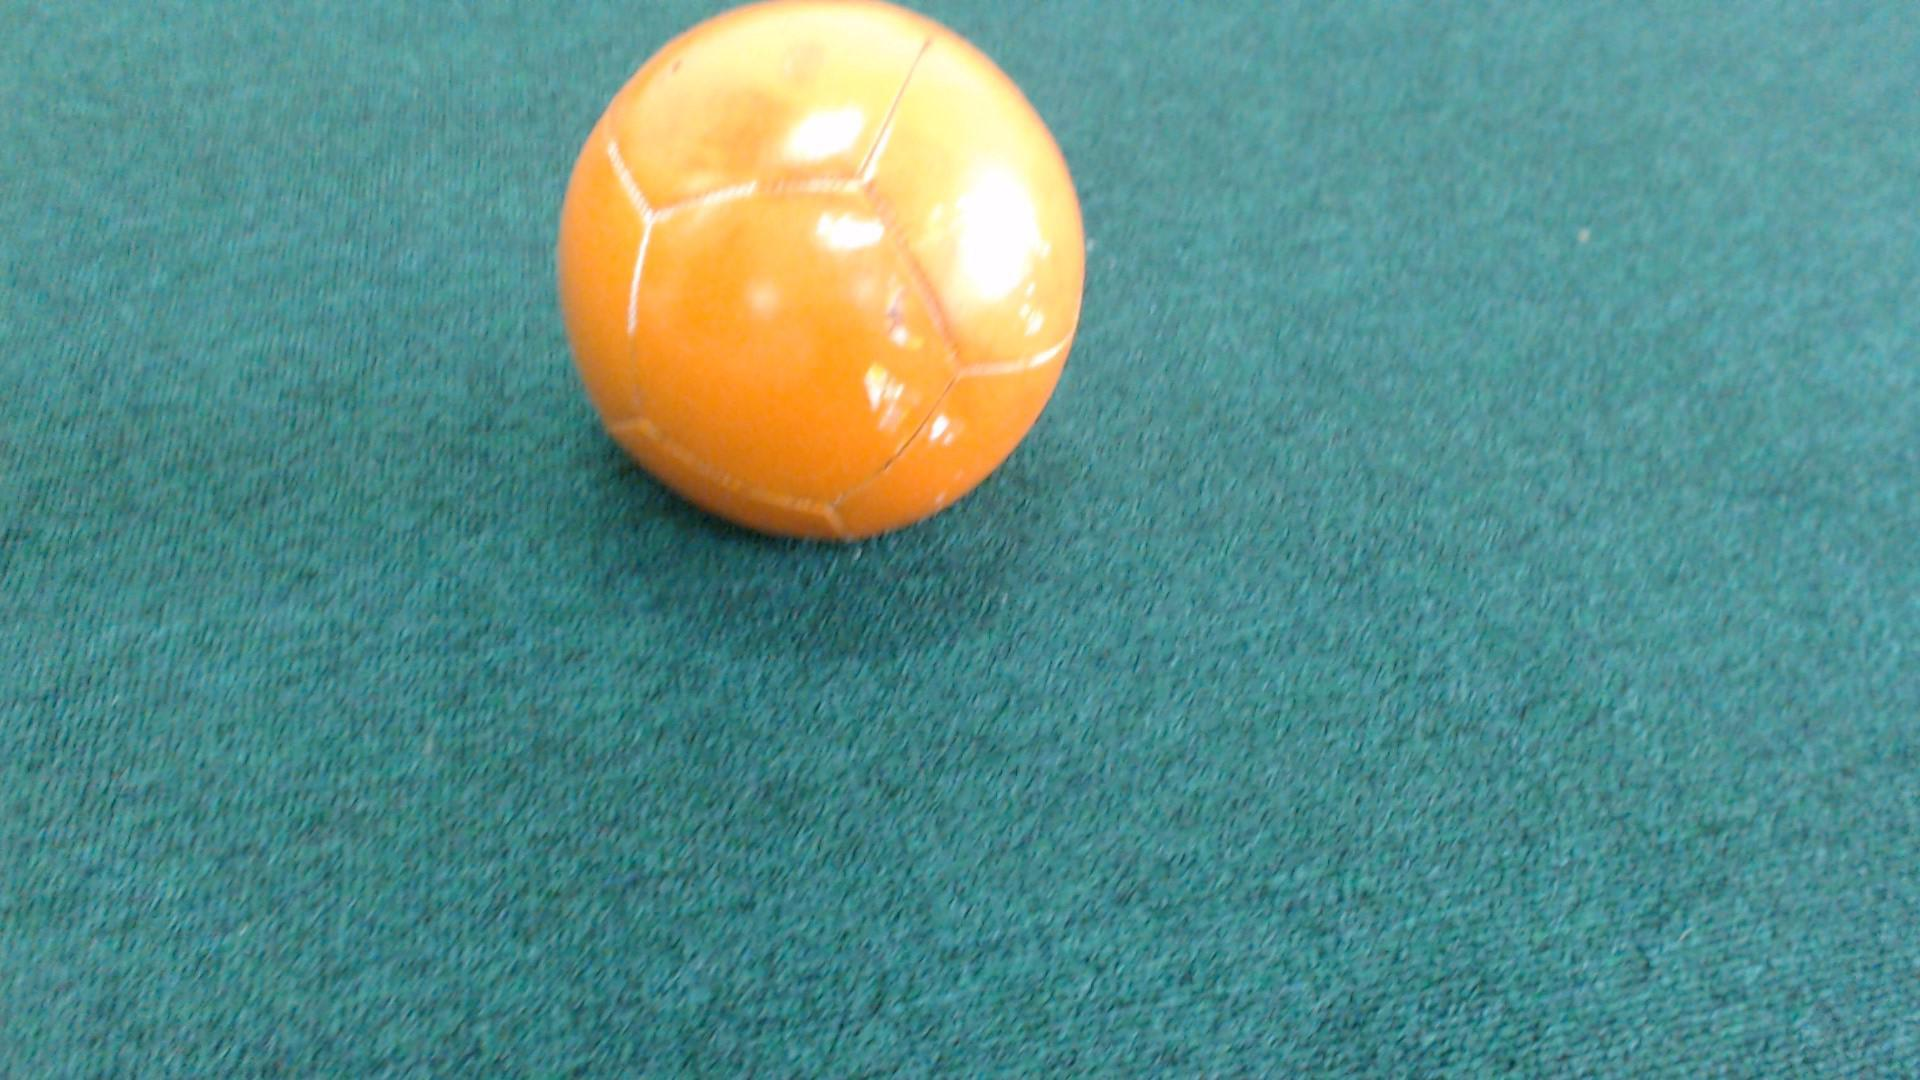bola: (525, 0, 1105, 574)
